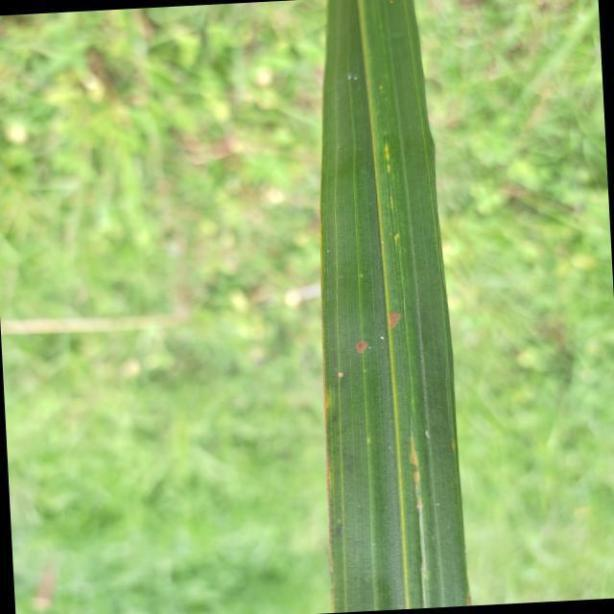Boron: (321, 0, 474, 614)
